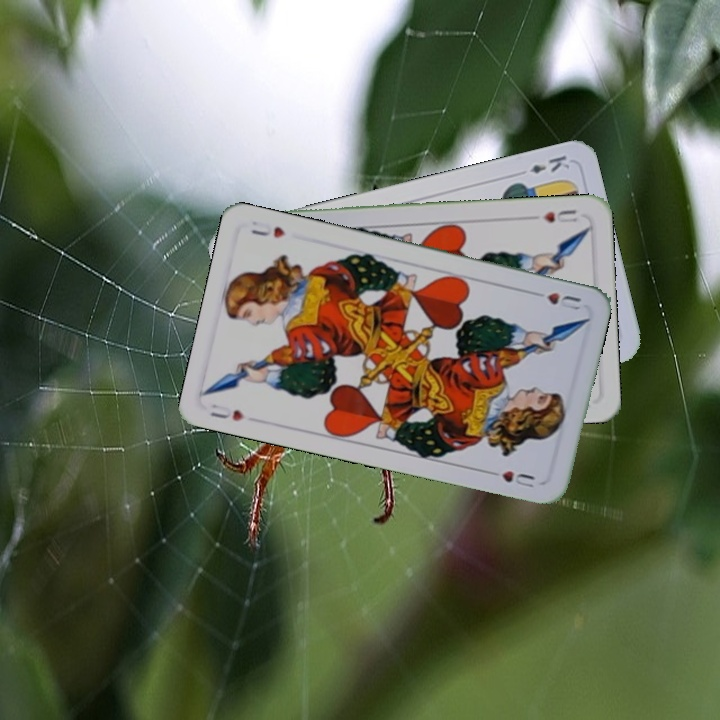EK: (526, 151, 573, 177)
HU: (527, 288, 583, 313), (206, 400, 247, 424), (539, 205, 580, 226)
